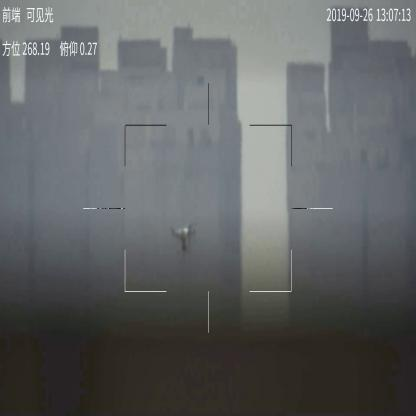uav: (165, 221, 202, 255)
